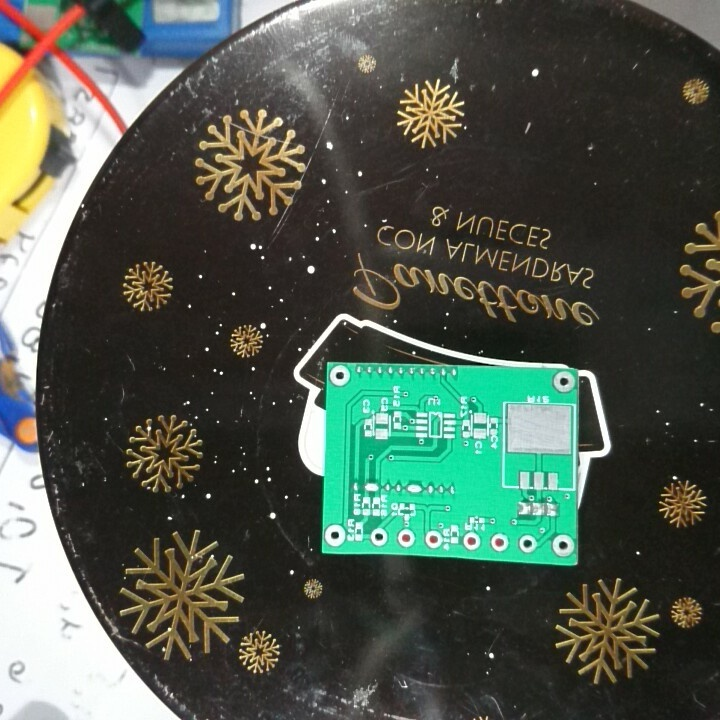F: (549, 533, 576, 558), (552, 369, 575, 396), (323, 522, 346, 547), (327, 364, 352, 386), (460, 529, 483, 552), (368, 526, 389, 547), (517, 533, 539, 553), (490, 532, 510, 553), (423, 529, 443, 549), (396, 527, 416, 546)
P: (405, 481, 423, 495), (363, 479, 380, 492)
